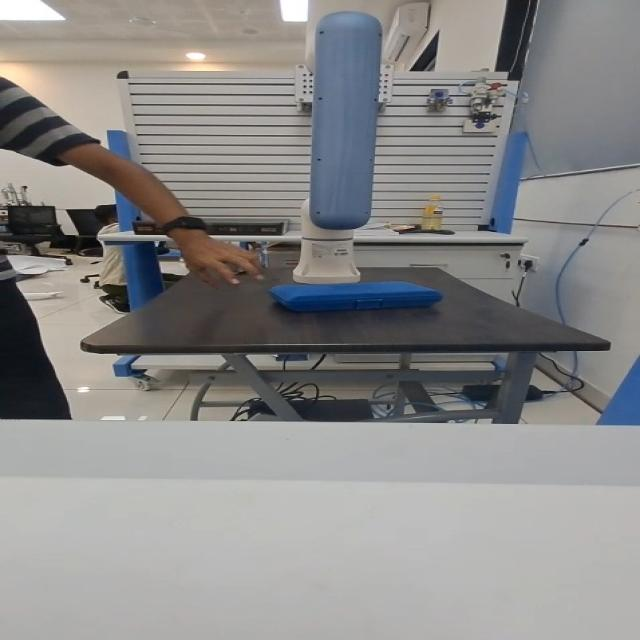top-surface: (295, 283, 414, 293)
